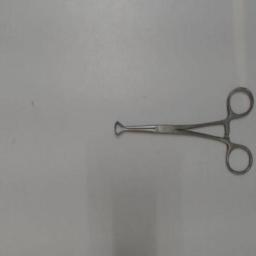Babcock Tissue Forceps: (110, 82, 256, 178)
